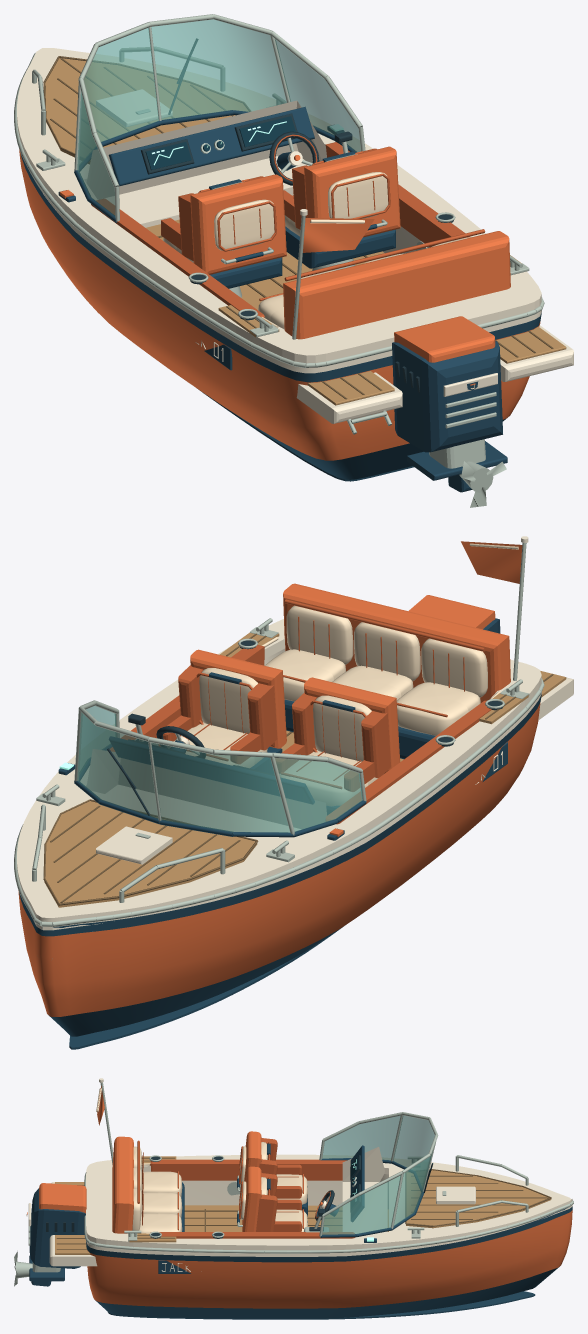
File: boat.glb
3 renders of one model, top to bottom at view 1: azimuth 30°, elevation 25°; view 2: azimuth 150°, elevation 25°; view 3: azimuth 270°, elevation 25°, orthographic. The views are drawn at different scales.
Visible parts, largest first — view 1: static_hullOrange, static_hullIvory, static_windshield, static_movingHardware (×2), static_navy, static_teak, static_satinMetal, static_cognac, static_upholstery, static_teakSeam, static_display, static_rubber; view 2: static_hullOrange, static_hullIvory, static_upholstery, static_windshield, static_navy, static_cognac, static_teak, static_satinMetal, static_teakSeam, static_movingHardware, static_rubber; view 3: static_hullOrange, static_hullIvory, static_navy, static_windshield, static_teak, static_cognac, static_satinMetal, static_movingHardware (×2), static_upholstery, static_teakSeam, static_rubber.
Part boxes in pixels (box(x1,y1,x2,y2)): static_hullOrange: box(19, 146, 540, 460); static_hullIvory: box(17, 48, 573, 423); static_windshield: box(77, 19, 360, 215); static_movingHardware (×2): box(269, 131, 507, 507); static_navy: box(21, 106, 541, 481); static_teak: box(45, 58, 566, 405); static_satinMetal: box(14, 14, 544, 434); static_cognac: box(91, 142, 485, 317); static_upholstery: box(163, 154, 472, 329); static_teakSeam: box(43, 56, 553, 399); static_display: box(145, 116, 295, 170); static_rubber: box(141, 38, 453, 320); static_hullOrange: box(18, 541, 540, 1016); static_hullIvory: box(17, 536, 573, 930); static_upholstery: box(174, 543, 518, 806); static_windshield: box(77, 706, 362, 833); static_navy: box(19, 672, 541, 1049); static_cognac: box(110, 599, 491, 824); static_teak: box(44, 632, 566, 907); static_satinMetal: box(14, 543, 544, 958); static_teakSeam: box(43, 633, 553, 905); static_movingHardware: box(408, 595, 500, 633); static_rubber: box(107, 640, 502, 815); static_hullOrange: box(87, 1086, 572, 1308); static_hullIvory: box(49, 1078, 572, 1271); static_navy: box(86, 1143, 572, 1319); static_windshield: box(322, 1115, 434, 1234); static_teak: box(55, 1156, 551, 1254); static_cognac: box(137, 1138, 355, 1238); static_satinMetal: box(84, 1082, 573, 1253); static_movingHardware (×2): box(14, 1183, 339, 1286); static_upholstery: box(96, 1088, 307, 1233); static_teakSeam: box(56, 1157, 551, 1249); static_rubber: box(150, 1155, 433, 1238).
Bounding box in the file's own units: 1.49 × 1.37 × 3.82.
